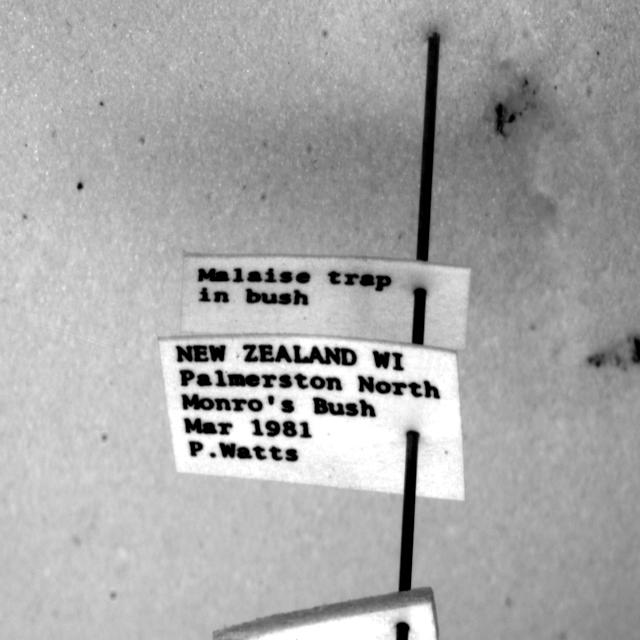typed_label: (159, 336, 464, 501), (181, 255, 470, 349)
